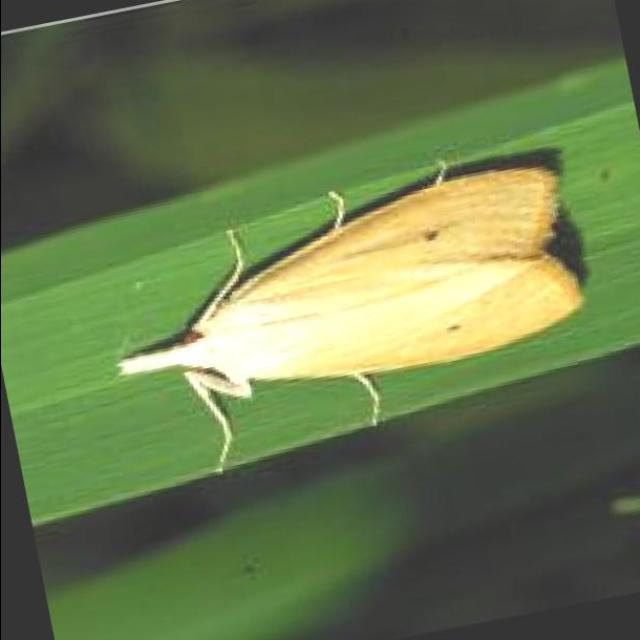stem borer: (118, 161, 580, 471)
